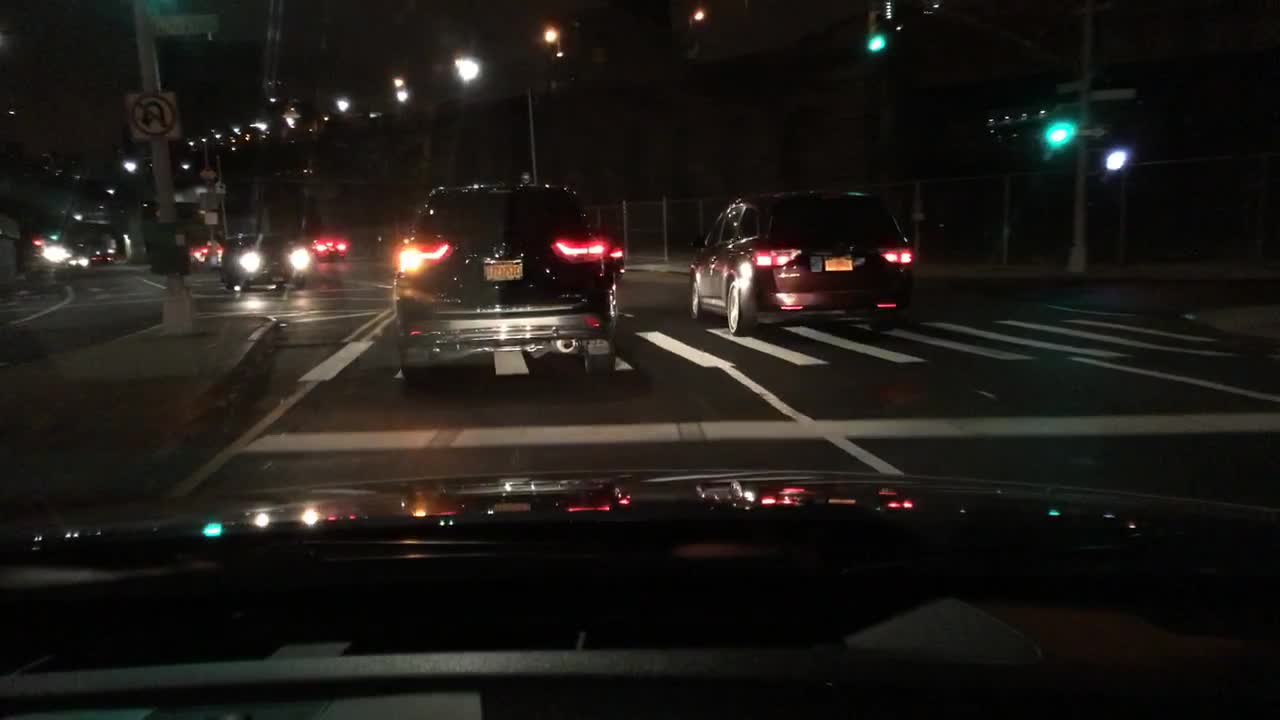car: (390, 180, 621, 385), (686, 185, 918, 339), (216, 231, 310, 292), (311, 234, 347, 260), (602, 238, 624, 279), (189, 241, 223, 267), (41, 247, 71, 265), (65, 253, 89, 269), (89, 252, 115, 265)
traffic light: (866, 5, 886, 51), (1044, 118, 1070, 152)
traffic sign: (122, 89, 180, 140), (155, 12, 221, 33), (1100, 146, 1128, 174), (1068, 124, 1107, 139), (1093, 90, 1138, 102), (197, 192, 220, 210), (1055, 81, 1079, 94), (202, 209, 219, 227), (1056, 100, 1074, 114), (201, 167, 215, 179), (518, 172, 532, 184), (216, 181, 225, 194)
